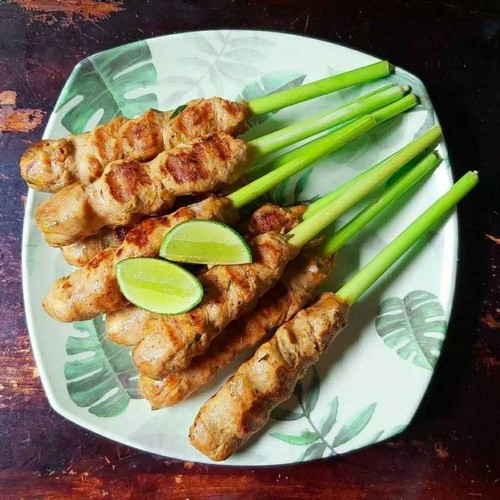sate lilit: (12, 96, 431, 220)
